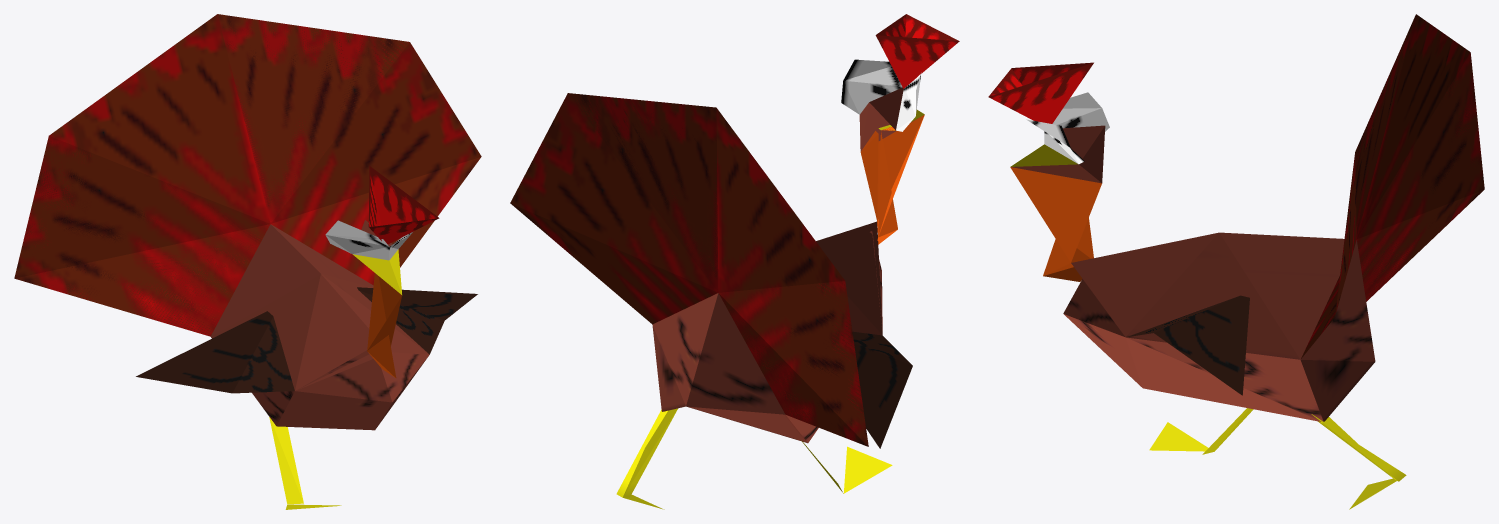
The model's file is pavo.glb.
3 renders of one model, left to right at view 1: azimuth 30°, elevation 25°; view 2: azimuth 150°, elevation 25°; view 3: azimuth 270°, elevation 25°, orthographic. The views are drawn at different scales.
Parts seen in each view (by area): view 1: output_1; view 2: output_1; view 3: output_1.
Boxes of the visible parts, box(x1,y1,x2,y2) form: output_1: box(14, 14, 481, 509); output_1: box(510, 14, 959, 509); output_1: box(988, 14, 1484, 509).
Size of the model in its own units: 1 by 1 by 1.
2 materials, 2 textured.
